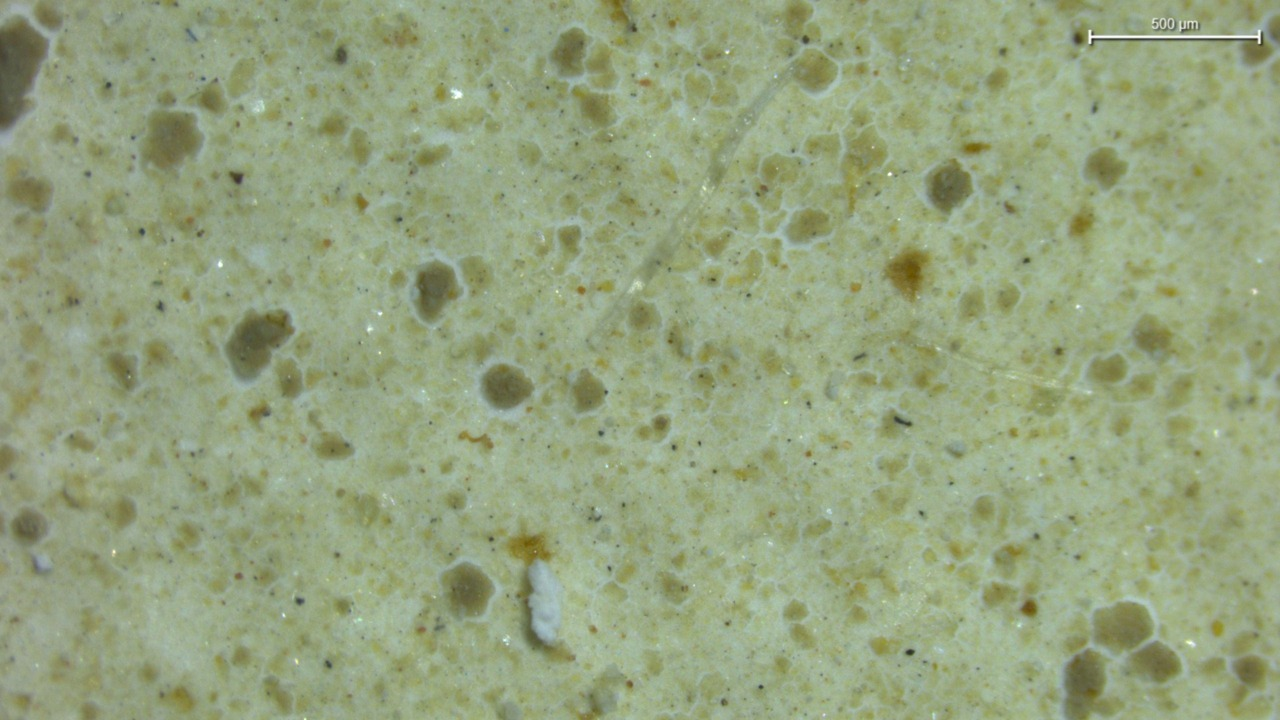microplastic_fragment: (527, 559, 562, 646)
